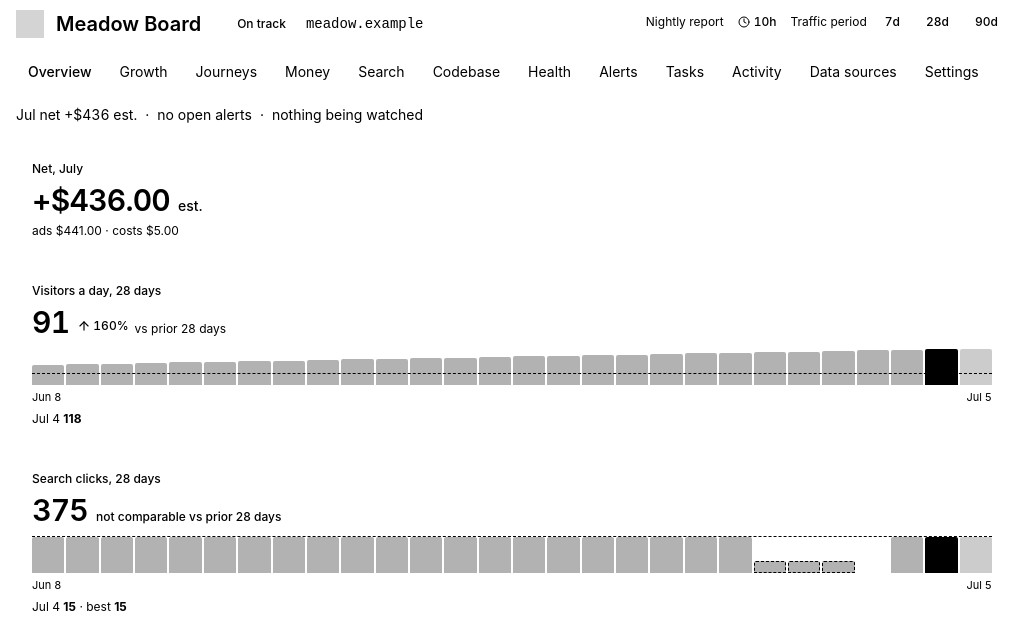
it: Asset Overview — the asset's numbers over one chart › draws a day only one search source reported as partial and a day neither did as missing, and names the hole
Expected: the element named "Asset sections" is shown, [28, 63, 979, 80]
Click the button that starts with "Search clicks, 28 days" at (512, 543), box [16, 455, 1008, 631]
(page scrolled)
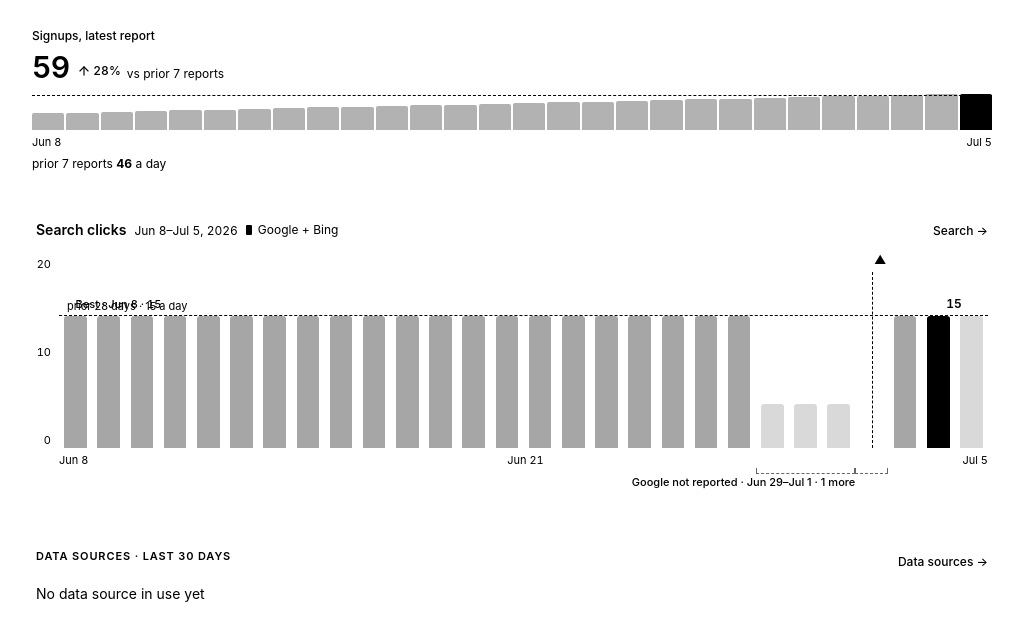
Expected: the element that starts with "Search clicks" does not show "Lowest · Jun 30", [36, 220, 988, 488]
Result: the element showing "Google not reported · Jun 29–Jul 1 · 1 more" is shown at [632, 468, 888, 489]
